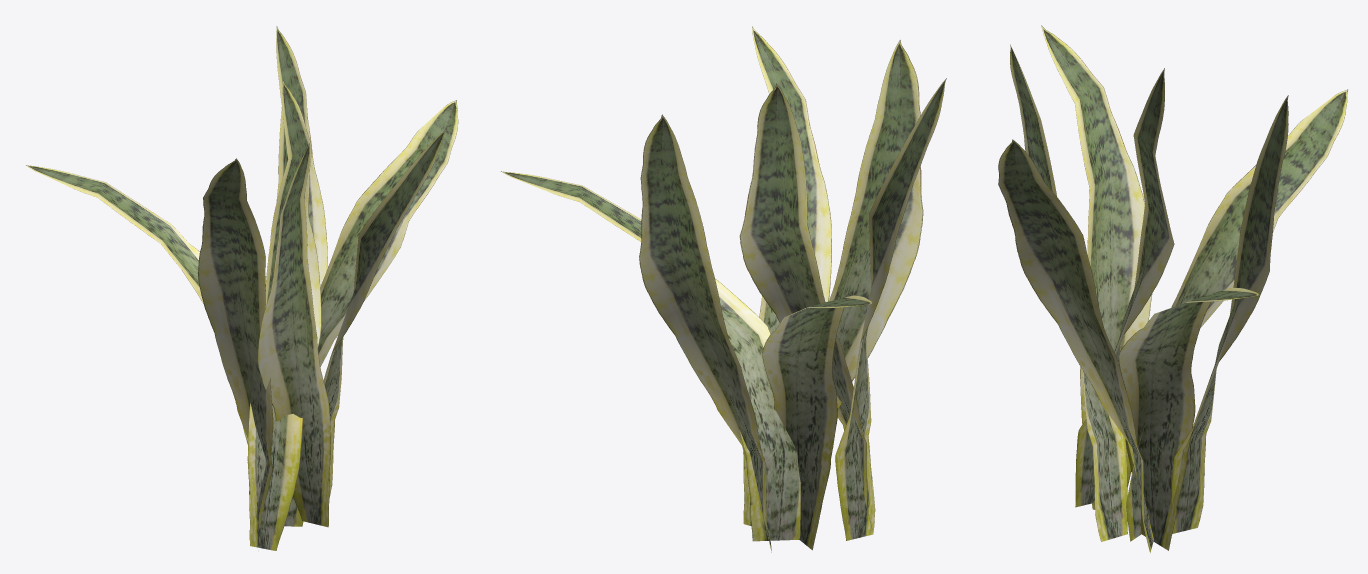
Rendered from plant k.dae.
The picture shows the model from 3 angles, left to right: view 1: azimuth 30°, elevation 25°; view 2: azimuth 150°, elevation 25°; view 3: azimuth 270°, elevation 25°; orthographic projection. The views are drawn at different scales.
Parts seen in each view (by area): view 1: plant_k_Group4_Form25, plant_k_Group4_plant_k; view 2: plant_k_Group4_Form25, plant_k_Group4_plant_k; view 3: plant_k_Group4_Form25, plant_k_Group4_plant_k.
Boxes of the visible parts, x1,y1,x2,y2 form: plant_k_Group4_Form25: (247,26,446,550); plant_k_Group4_plant_k: (26,100,458,531); plant_k_Group4_Form25: (639,26,923,552); plant_k_Group4_plant_k: (501,78,946,550); plant_k_Group4_Form25: (998,44,1288,552); plant_k_Group4_plant_k: (1041,25,1347,550).
Size of the model in its own units: 46.02 by 48.36 by 33.72.
1 material, 1 textured.
